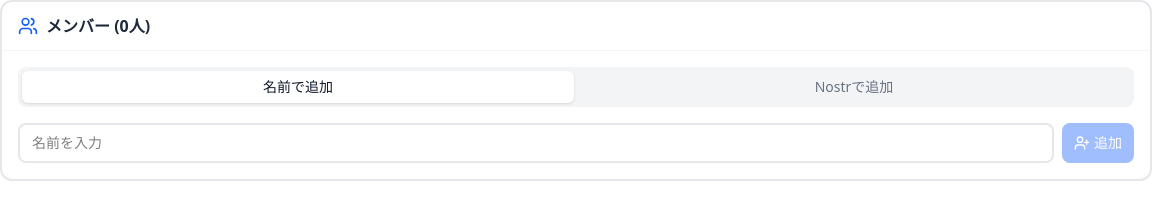
Test: MemberList - npubバリデーション › 有効なnpubの場合は追加ボタンがenabledになりエラーメッセージが表示されない
Click the button "Nostrで追加" at (854, 87), box x1=578 y1=71 x2=1130 y2=103
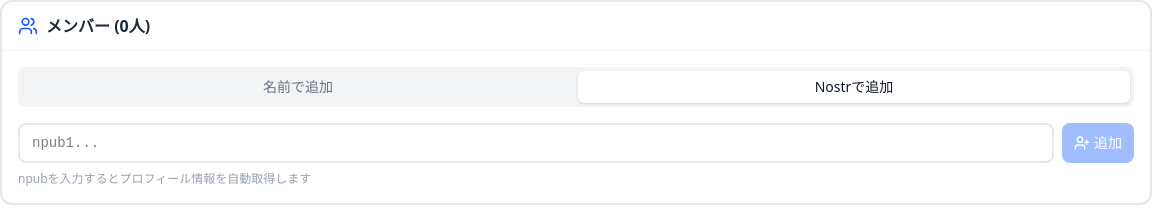
Type "npub1validexample" into the field with placeholder "npub1..." at (536, 143), box x1=18 y1=123 x2=1054 y2=163
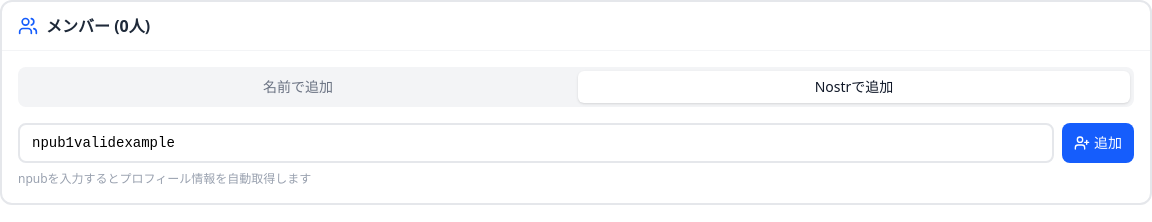
Check: the button "追加" is enabled, box x1=1062 y1=123 x2=1134 y2=163
